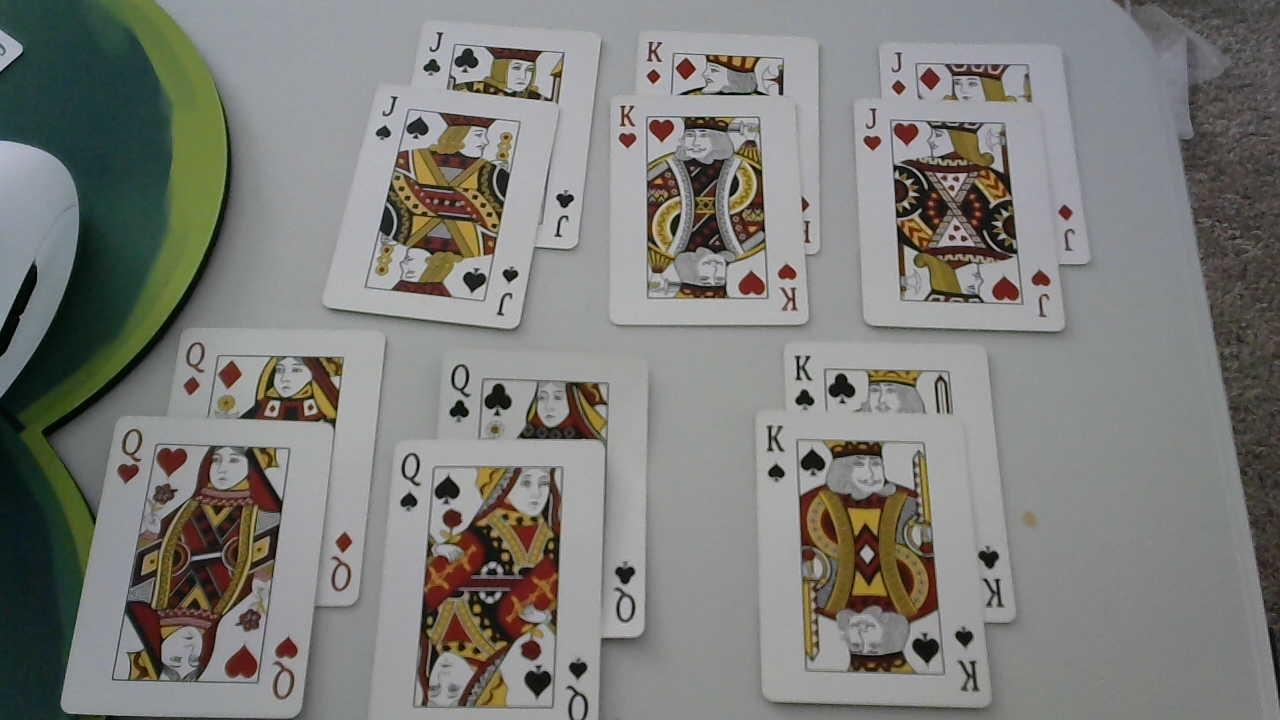JC: (548, 188, 579, 238), (422, 28, 446, 79)
JD: (1054, 198, 1081, 259), (889, 46, 908, 97)
JH: (1028, 266, 1059, 321), (862, 103, 883, 154)
JS: (496, 263, 520, 319), (374, 94, 401, 143)
KC: (971, 541, 1008, 611), (790, 352, 818, 413)
KD: (646, 37, 666, 86)
KH: (614, 100, 642, 154), (777, 261, 802, 316)
KS: (948, 623, 983, 697), (763, 420, 796, 486)
QC: (609, 556, 642, 630), (443, 360, 474, 422)
QD: (327, 530, 355, 595), (181, 339, 209, 398)
QH: (269, 632, 301, 703), (113, 426, 147, 487)
QS: (564, 654, 593, 720), (399, 448, 424, 516)
